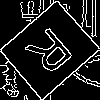R: (24, 25, 81, 84)
